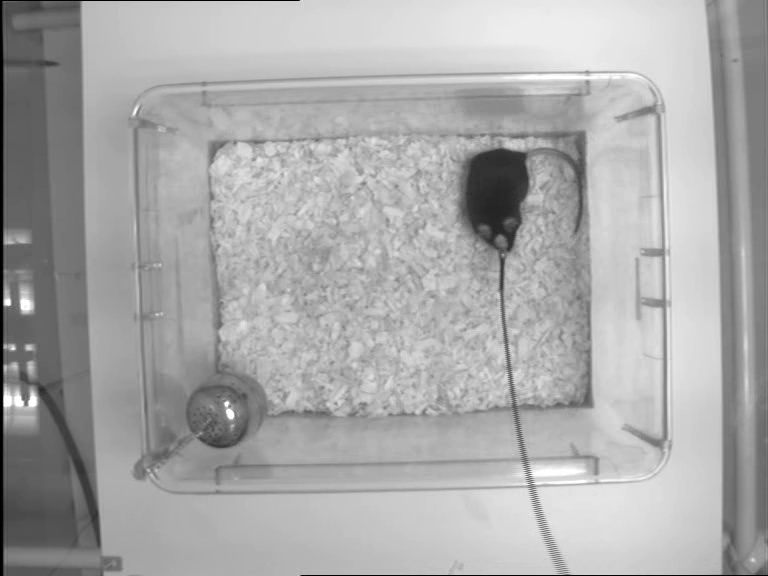mice: (464, 146, 583, 256)
